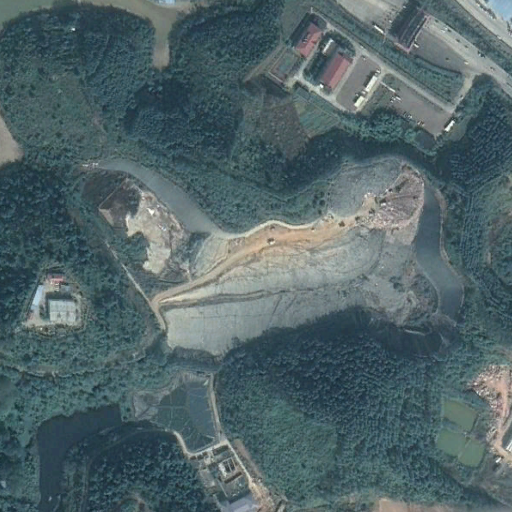lf: (98, 157, 467, 356)
